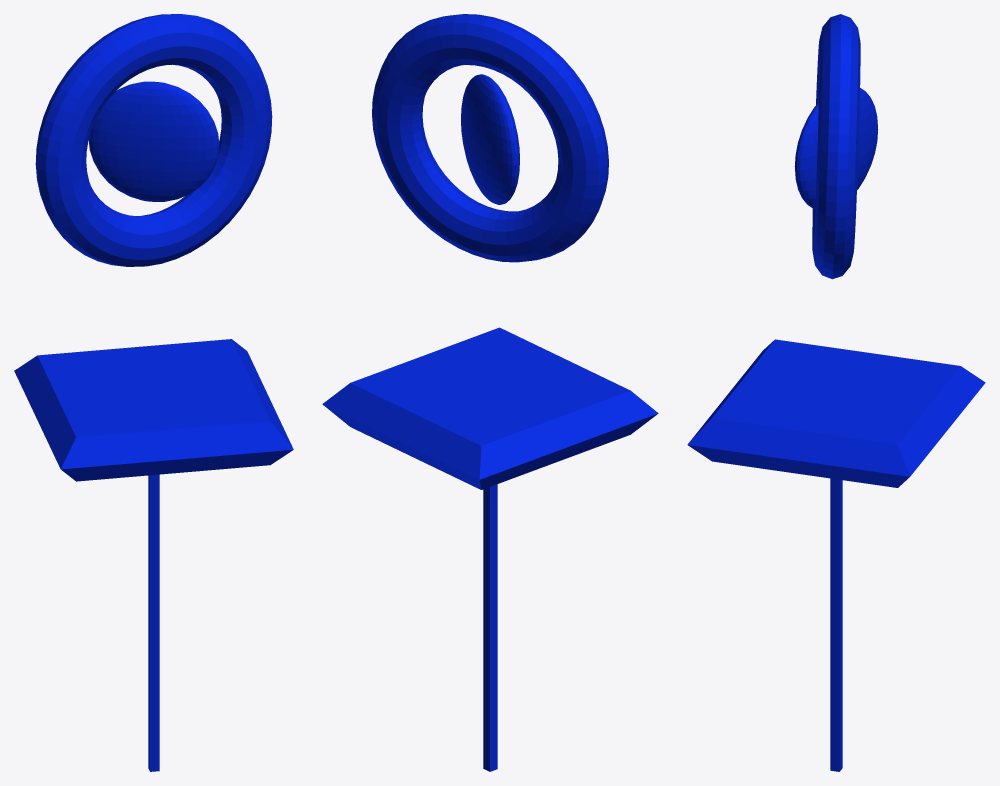
3 views of the same model, side by side, from view 1: azimuth 30°, elevation 25°; view 2: azimuth 150°, elevation 25°; view 3: azimuth 270°, elevation 25° (orthographic).
Visible parts, largest first — view 1: Torus; view 2: Torus; view 3: Torus.
Boxes of the visible parts, x1,y1,x2,y2 form: Torus: (14, 14, 293, 771); Torus: (322, 14, 658, 771); Torus: (687, 14, 985, 771).
Size of the model in its own units: 3.65 by 10.03 by 3.65.
